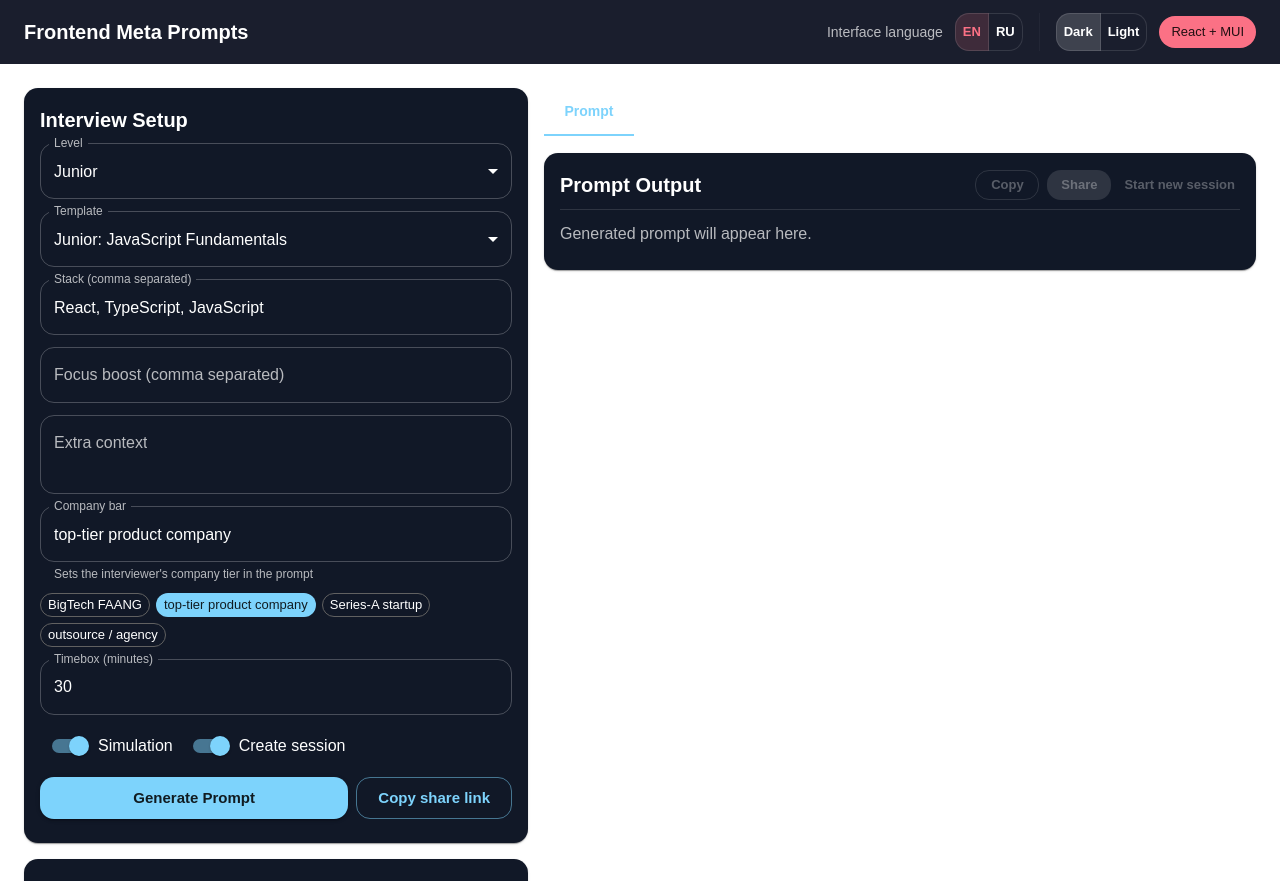
Scenario: App › shares generated prompt
Click the button "Generate Prompt" at (194, 798), box x1=40 y1=777 x2=348 y2=819
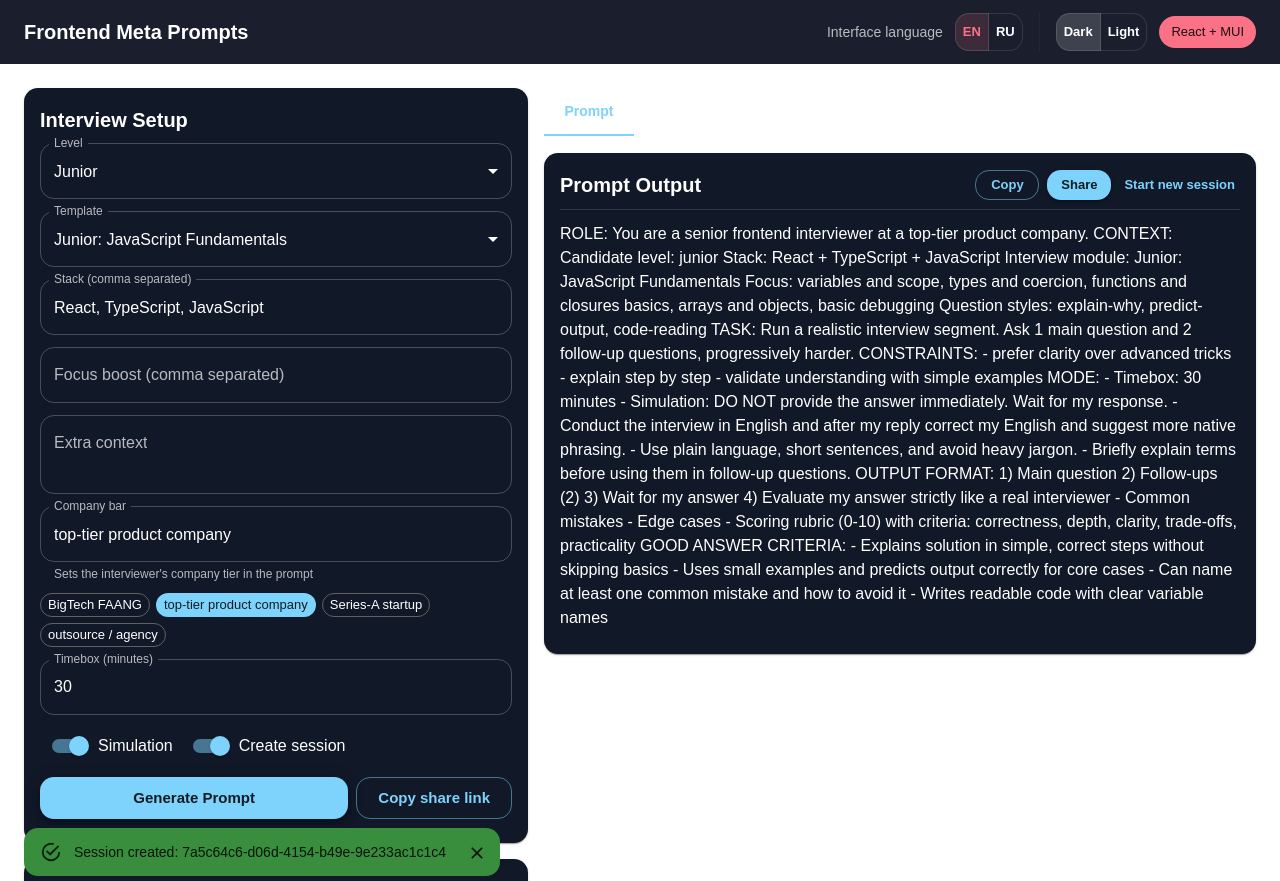
Check: the text "ROLE:" is shown, box x1=560 y1=225 x2=1237 y2=626
Check: the button "Share" is enabled
Click the button "Share" at (1079, 185), box x1=1047 y1=170 x2=1111 y2=200
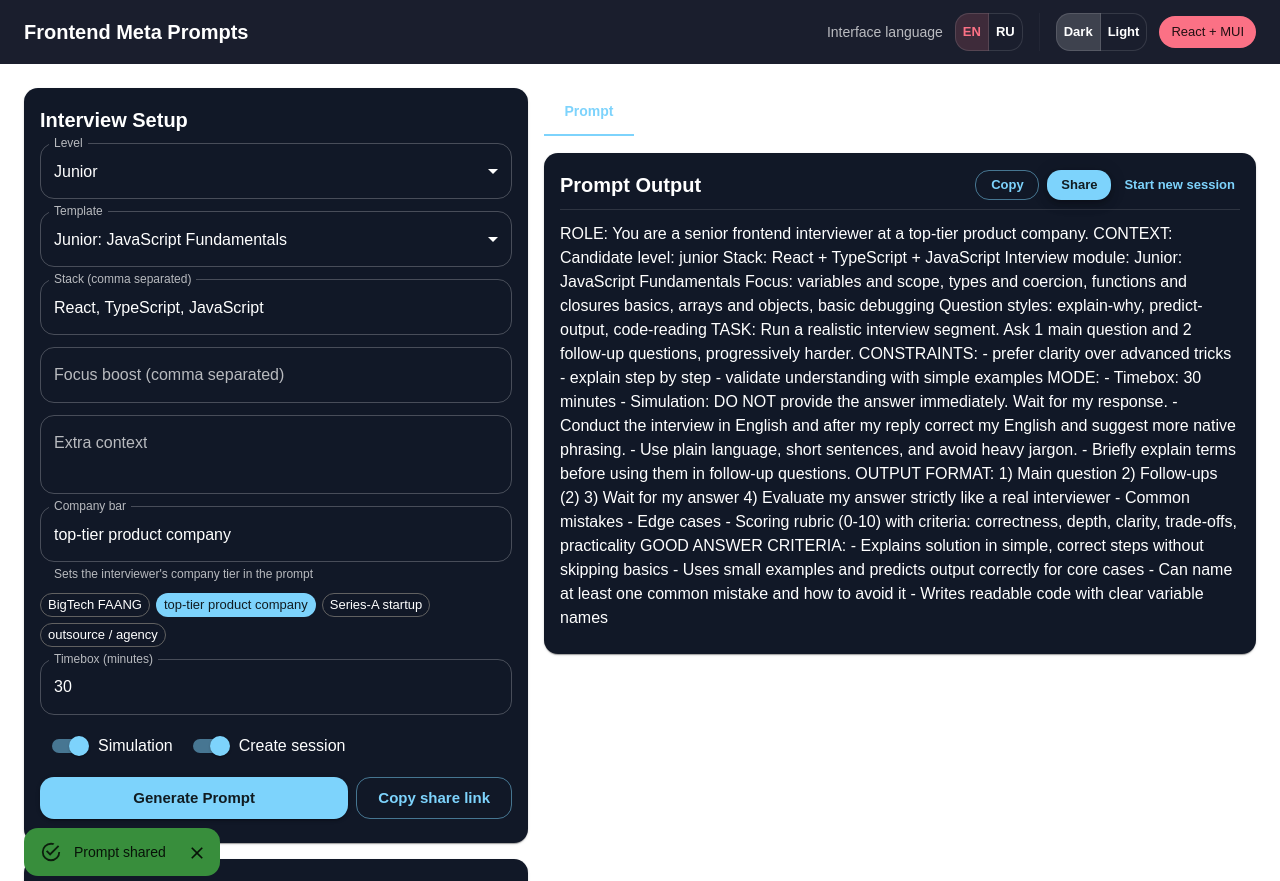
Check: the text "Prompt shared" is shown, box x1=74 y1=844 x2=166 y2=860
